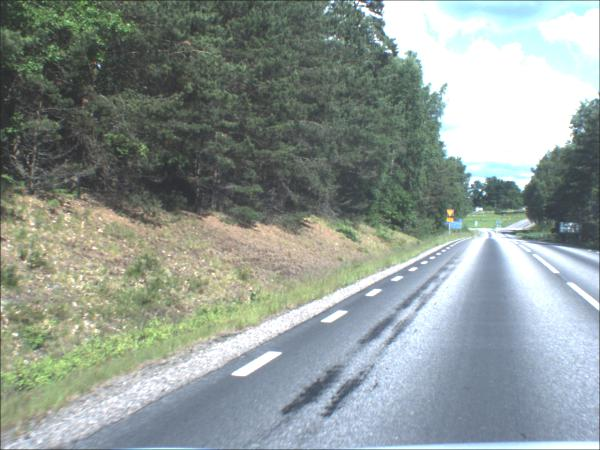GIVE_WAY: (447, 210, 455, 218)
